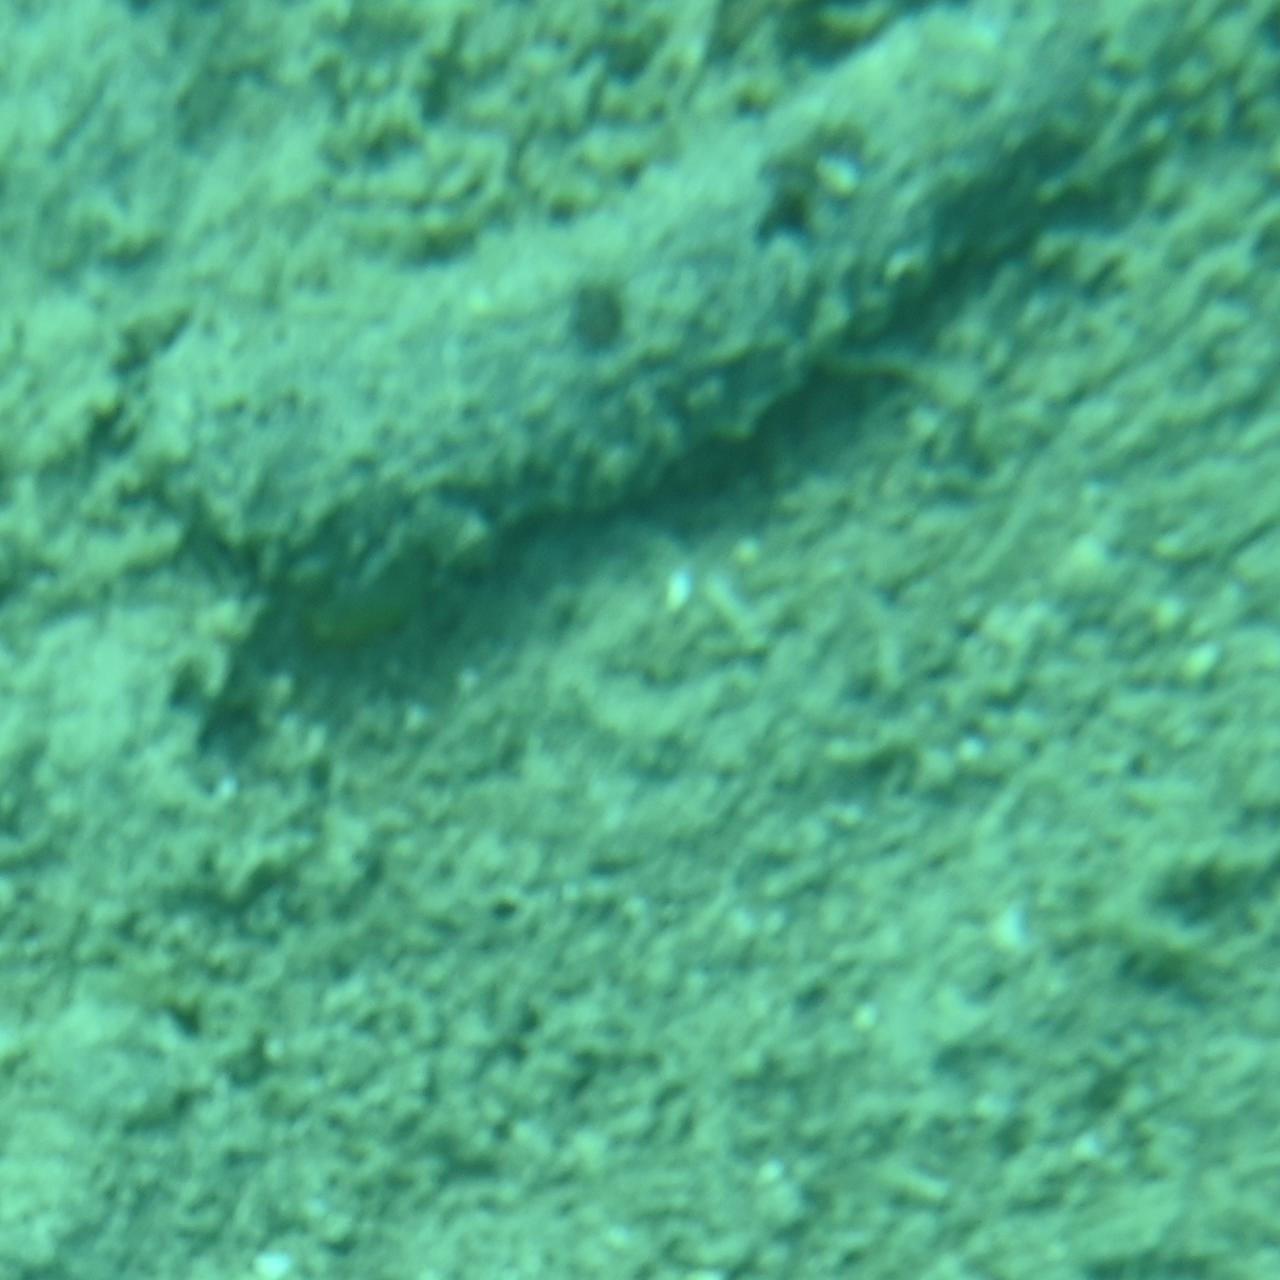Holothuria tubulosa: (109, 0, 1171, 710)
